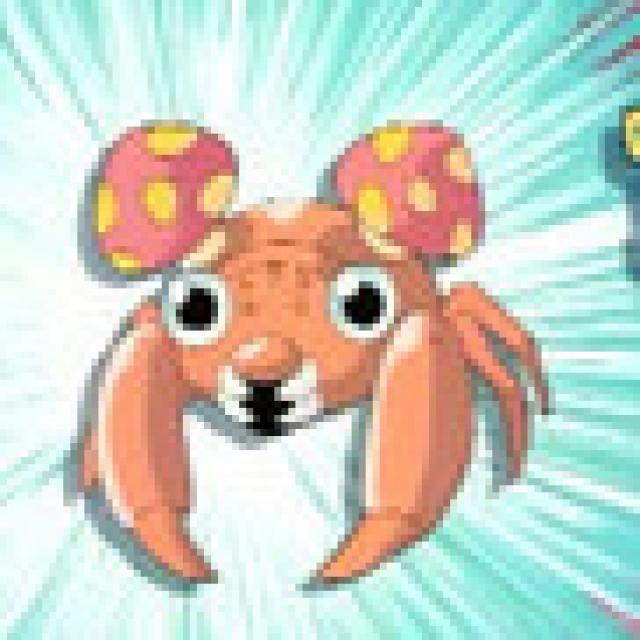Paras: (74, 117, 506, 581)
